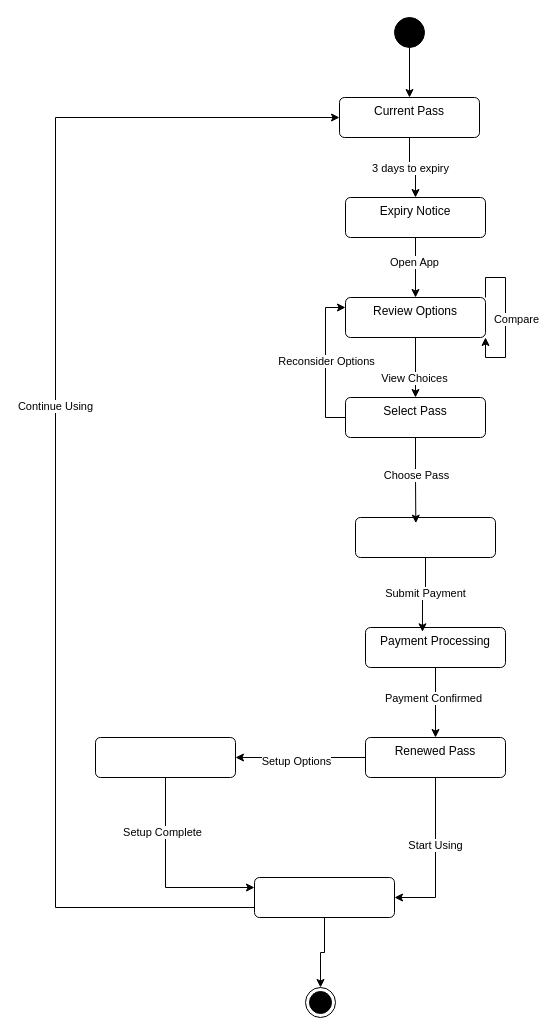
This 556x1035 diagram has some shape labels left out. Here are the shapes that lost their labels. From the top down, the centre of each, then its label:
At [425,537]: "Update Payment".
At [165,757]: "Auto-Renewal Setup".
At [324,897]: "Using Pass".
